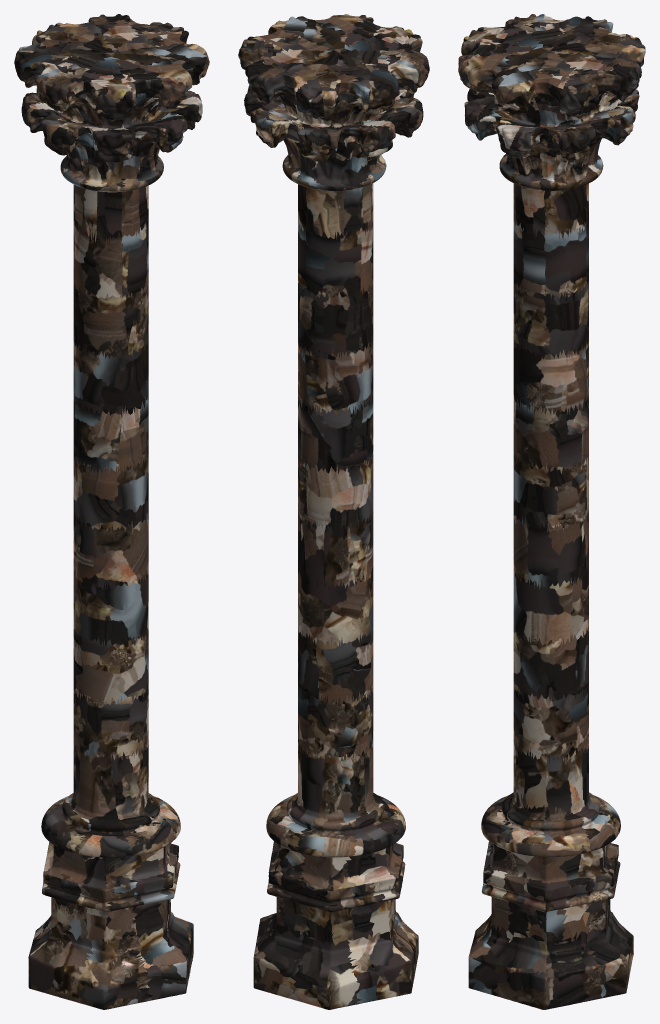
Rendered from pillar_left_side.fbx.
The picture shows the model from 3 angles, left to right: view 1: azimuth 30°, elevation 25°; view 2: azimuth 150°, elevation 25°; view 3: azimuth 270°, elevation 25°; orthographic projection.
Parts seen in each view (by area): view 1: Mesh_0; view 2: Mesh_0; view 3: Mesh_0.
Part boxes in pixels (left/top/right/bottom): Mesh_0: left=14, top=14, right=209, bottom=1009; Mesh_0: left=238, top=14, right=429, bottom=1009; Mesh_0: left=458, top=14, right=645, bottom=1009.
Bounding box in the file's own units: 52.49 × 283 × 52.08.
